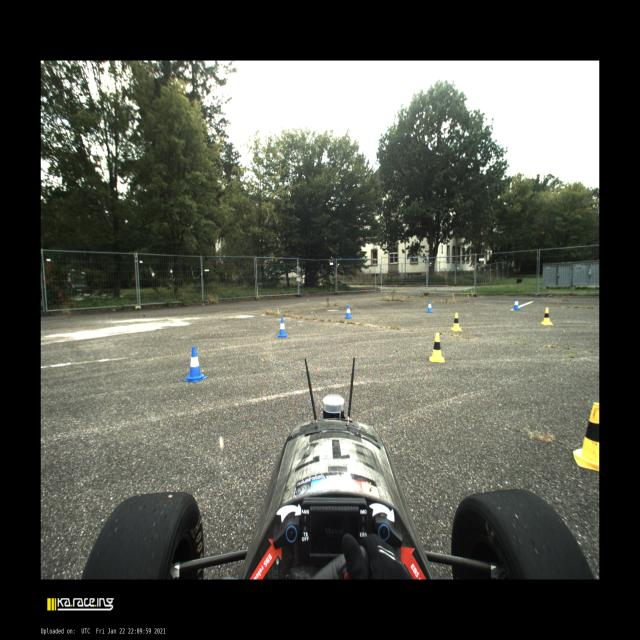blue_cone: (184, 346, 206, 382), (276, 318, 288, 338), (345, 305, 352, 319), (513, 298, 520, 310), (427, 301, 433, 313)
yellow_cone: (573, 403, 599, 471), (430, 333, 444, 362), (540, 308, 554, 325), (451, 312, 462, 330)
